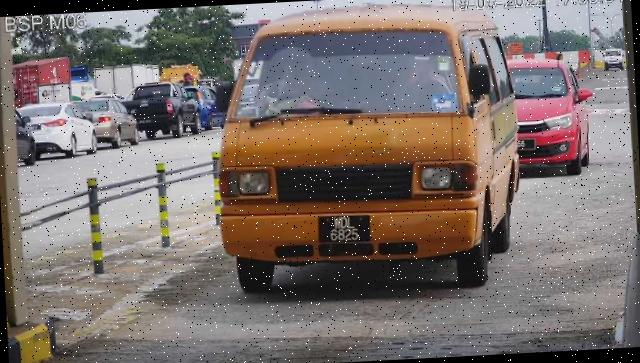License_Plate: (316, 213, 375, 250)
van: (210, 1, 527, 300)
